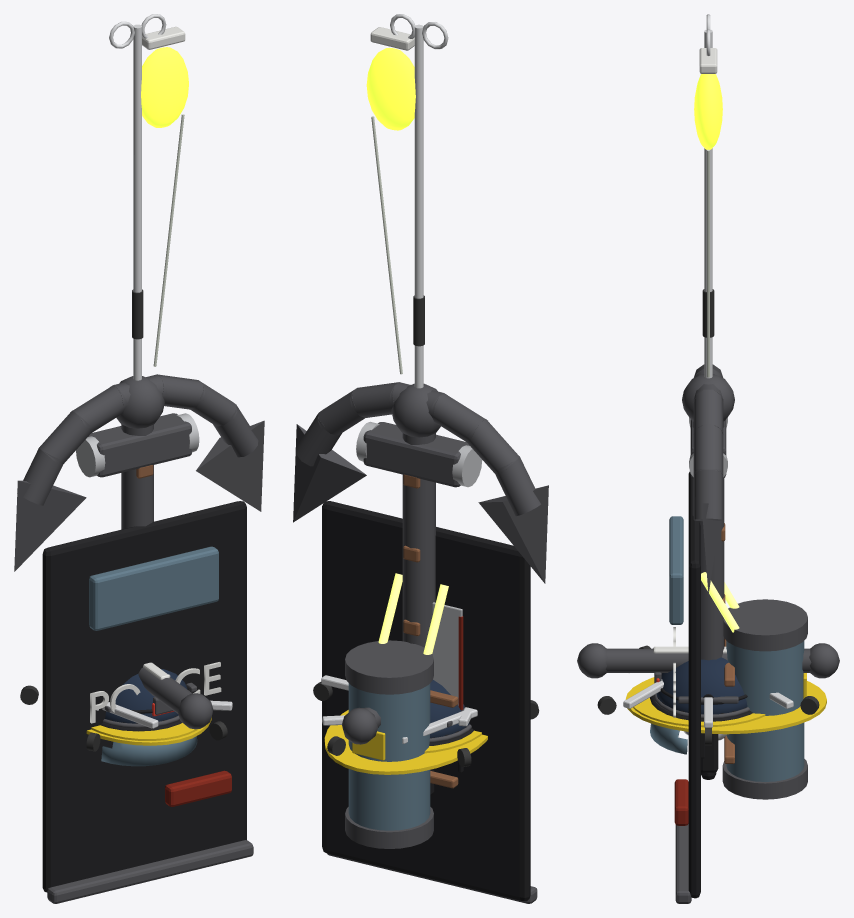
Rendered from boss_gear.glb.
3 views of the same model, side by side, from view 1: azimuth 30°, elevation 25°; view 2: azimuth 150°, elevation 25°; view 3: azimuth 270°, elevation 25° (orthographic). The views are drawn at different scales.
Parts seen in each view (by area): view 1: riot_shield, anchor, iv_pole, sledgehammer, riot_helmet, hardhat, souwester; view 2: riot_shield, anchor, canister, iv_pole, sledgehammer, souwester, cleaver, riot_helmet; view 3: canister, anchor, riot_shield, iv_pole, riot_helmet, souwester, hardhat, holster, combat_helmet.
Boxes of the visible parts, x1,y1,x2,y2 form: riot_shield: (42,501,253,903); anchor: (14,374,264,729); iv_pole: (20,14,232,751); sledgehammer: (76,413,199,477); riot_helmet: (100,662,197,766); hardhat: (91,703,198,740); souwester: (86,715,211,745); riot_shield: (322,501,537,903); anchor: (293,382,548,744); canister: (345,573,458,848); iv_pole: (313,14,539,767); sledgehammer: (356,421,482,487); souwester: (324,710,487,774); cleaver: (432,602,463,710); riot_helmet: (429,680,473,745); canister: (701,572,807,799); anchor: (577,364,839,740); riot_shield: (669,471,700,903); iv_pole: (597,14,819,745); riot_helmet: (650,646,752,754); souwester: (625,681,826,734); hardhat: (629,677,765,727); holster: (701,734,718,779); combat_helmet: (654,672,747,758).
Bounding box in the file's own units: 0.7865 × 2.59 × 0.74.
